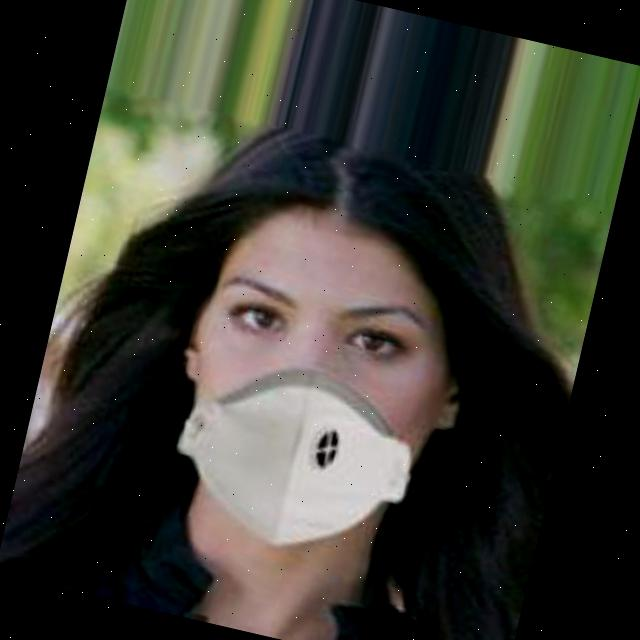suspicion: (148, 222, 484, 586)
